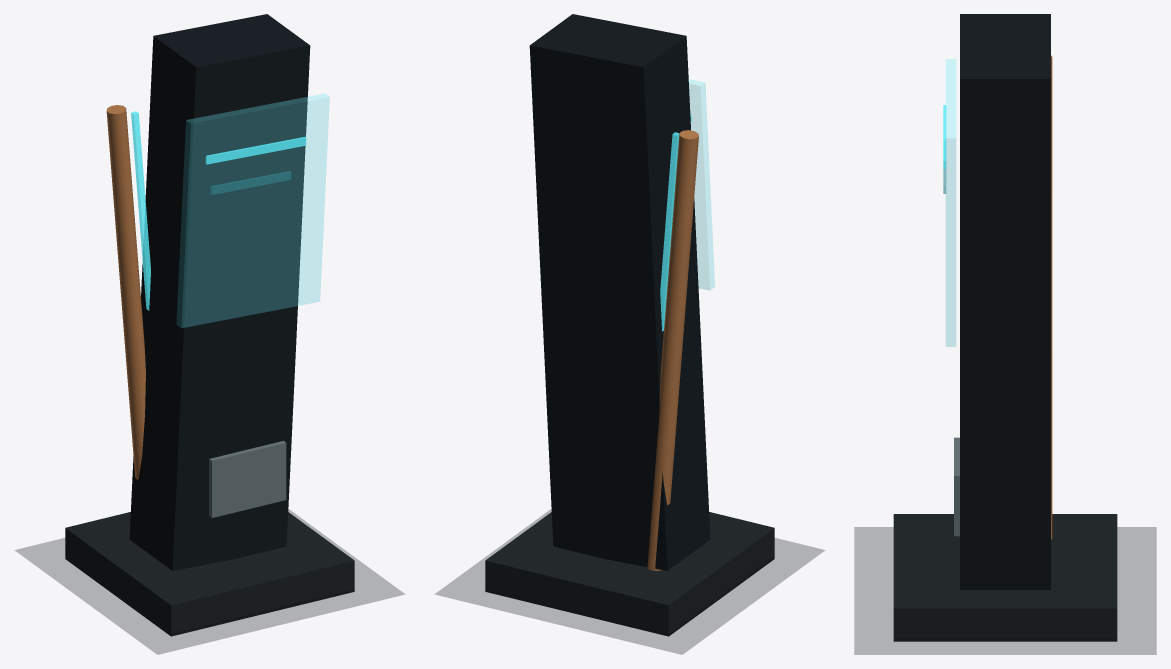
File: hp_room_cyber_holo_pylon.glb
3 views of the same model, side by side, from view 1: azimuth 30°, elevation 25°; view 2: azimuth 150°, elevation 25°; view 3: azimuth 270°, elevation 25° (orthographic). The views are drawn at different scales.
Parts seen in each view (by area): view 1: monolith, holo_plate, plinth, contact_shadow, cable_spine, maintenance_hatch, spine_cyan, ticker_line_1, ticker_line_2; view 2: monolith, plinth, contact_shadow, cable_spine, holo_plate, spine_cyan; view 3: monolith, plinth, contact_shadow, holo_plate, cable_spine, maintenance_hatch.
Boxes of the visible parts, left/top/right/bottom form: monolith: left=129, top=14, right=310, bottom=570; holo_plate: left=176, top=94, right=329, bottom=327; plinth: left=65, top=512, right=354, bottom=636; contact_shadow: left=15, top=509, right=404, bottom=654; cable_spine: left=106, top=105, right=145, bottom=479; maintenance_hatch: left=209, top=441, right=286, bottom=517; spine_cyan: left=131, top=111, right=150, bottom=310; ticker_line_1: left=205, top=137, right=306, bottom=164; ticker_line_2: left=211, top=171, right=291, bottom=194; monolith: left=529, top=14, right=710, bottom=570; plinth: left=485, top=512, right=774, bottom=636; contact_shadow: left=435, top=509, right=824, bottom=654; cable_spine: left=646, top=130, right=698, bottom=570; holo_plate: left=689, top=79, right=714, bottom=290; spine_cyan: left=660, top=132, right=679, bottom=331; monolith: left=960, top=14, right=1050, bottom=589; plinth: left=893, top=514, right=1117, bottom=641; contact_shadow: left=854, top=527, right=1156, bottom=654; holo_plate: left=946, top=59, right=955, bottom=346; cable_spine: left=1051, top=55, right=1052, bottom=539; maintenance_hatch: left=954, top=437, right=959, bottom=536.
Size of the model in its own units: 1 by 2.05 by 1.
